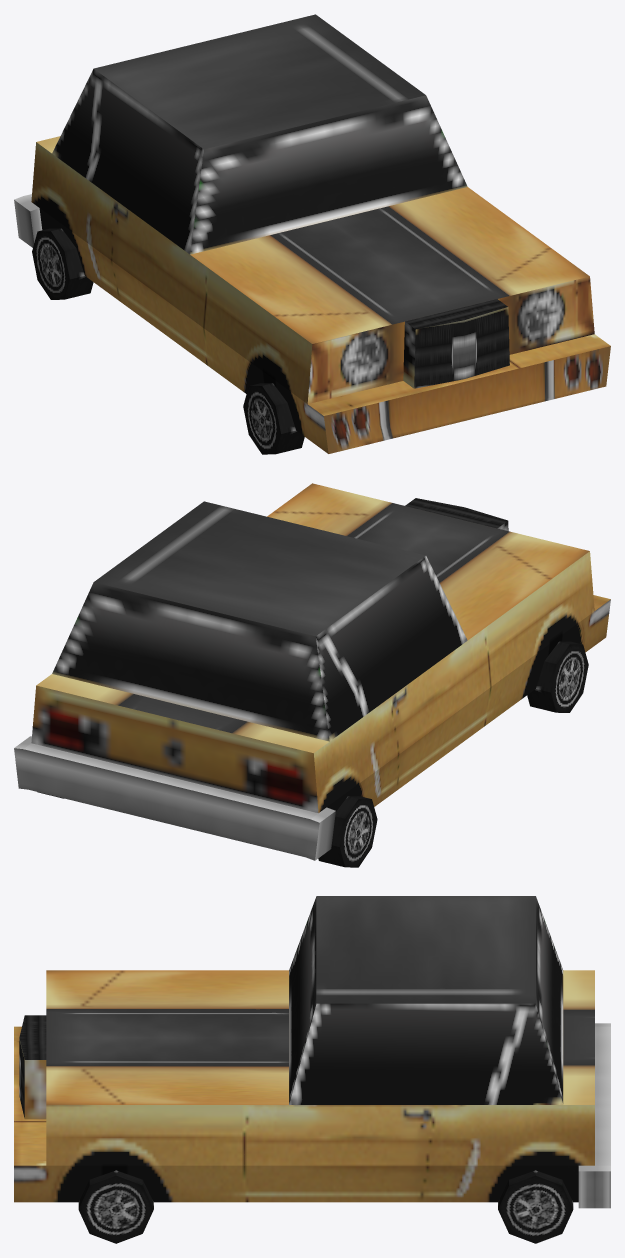
File: Car.fbx
3 views of the same model, one above another, from view 1: azimuth 30°, elevation 25°; view 2: azimuth 150°, elevation 25°; view 3: azimuth 270°, elevation 25° (orthographic).
Visible parts, largest first — view 1: Car; view 2: Car; view 3: Car.
Part boxes in pixels (bbox=[...]): Car: bbox=[14, 14, 610, 454]; Car: bbox=[14, 483, 610, 867]; Car: bbox=[14, 896, 610, 1243].
Size of the model in its own units: 656 by 450 by 1110.
Materials: 1 (1 with a texture image).
